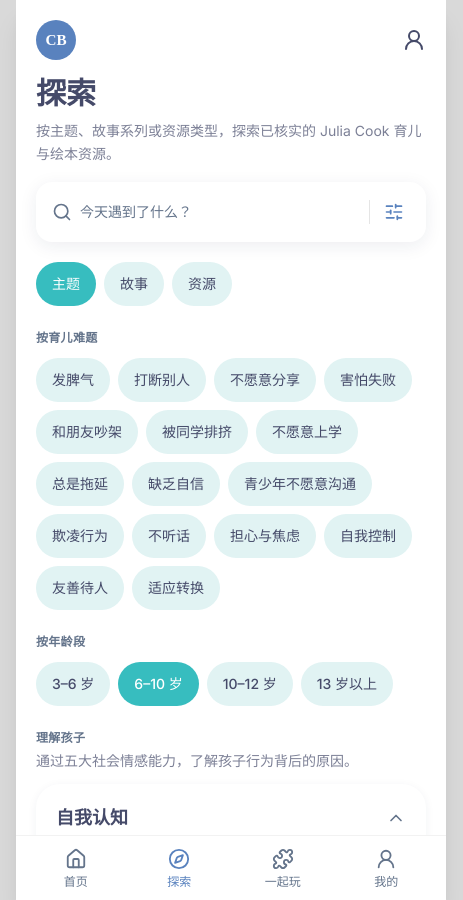
Discover page topic chip navigation › navigates into a topic's search results when a challenge chip is clicked
This screenshot has width=463, height=900.
Click the button "打断别人". click: coordinates (162, 380)
box: x1=118 y1=358 x2=206 y2=402
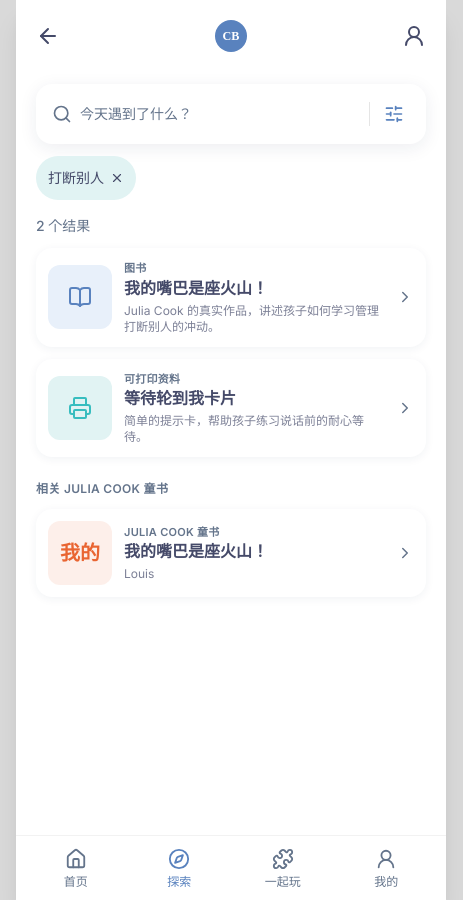
Expected: the button "打断别人" is shown, x1=36 y1=156 x2=136 y2=200
